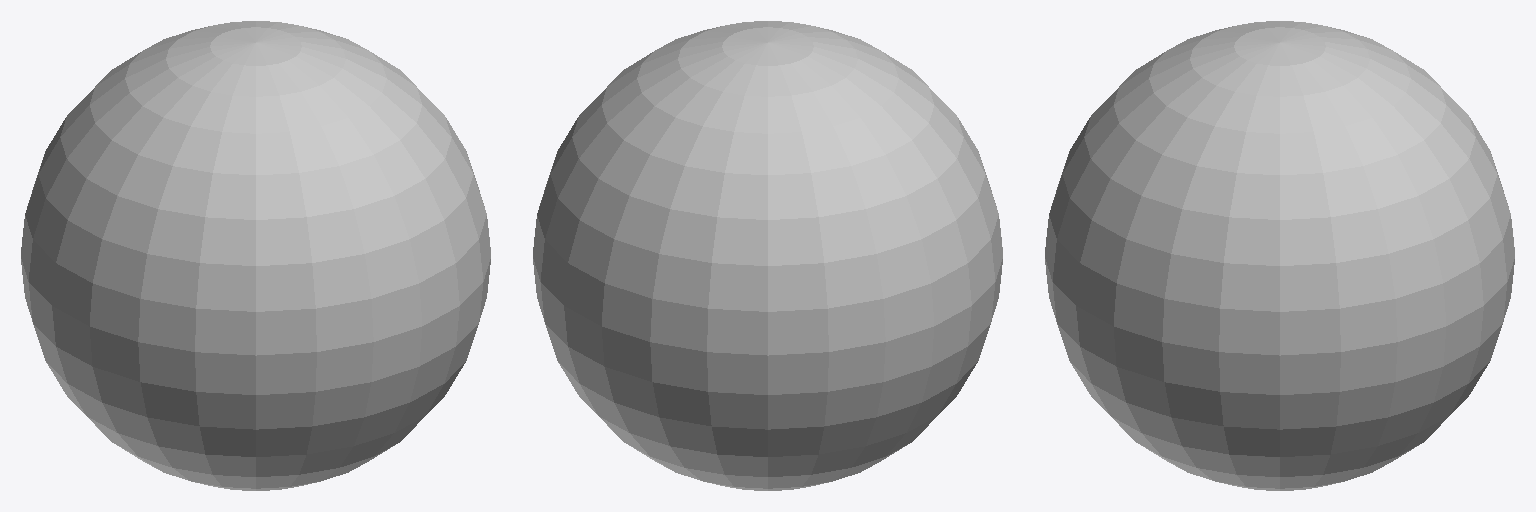
Rendered from ball.obj.
3 renders of one model, left to right at view 1: azimuth 30°, elevation 25°; view 2: azimuth 150°, elevation 25°; view 3: azimuth 270°, elevation 25°, orthographic.
Parts seen in each view (by area): view 1: Sphere02; view 2: Sphere02; view 3: Sphere02.
Part boxes in pixels (x1,y1,x2,y2): Sphere02: (21, 21, 490, 490); Sphere02: (533, 21, 1002, 490); Sphere02: (1045, 21, 1514, 490).
Bounding box in the file's own units: 46 × 46 × 46.